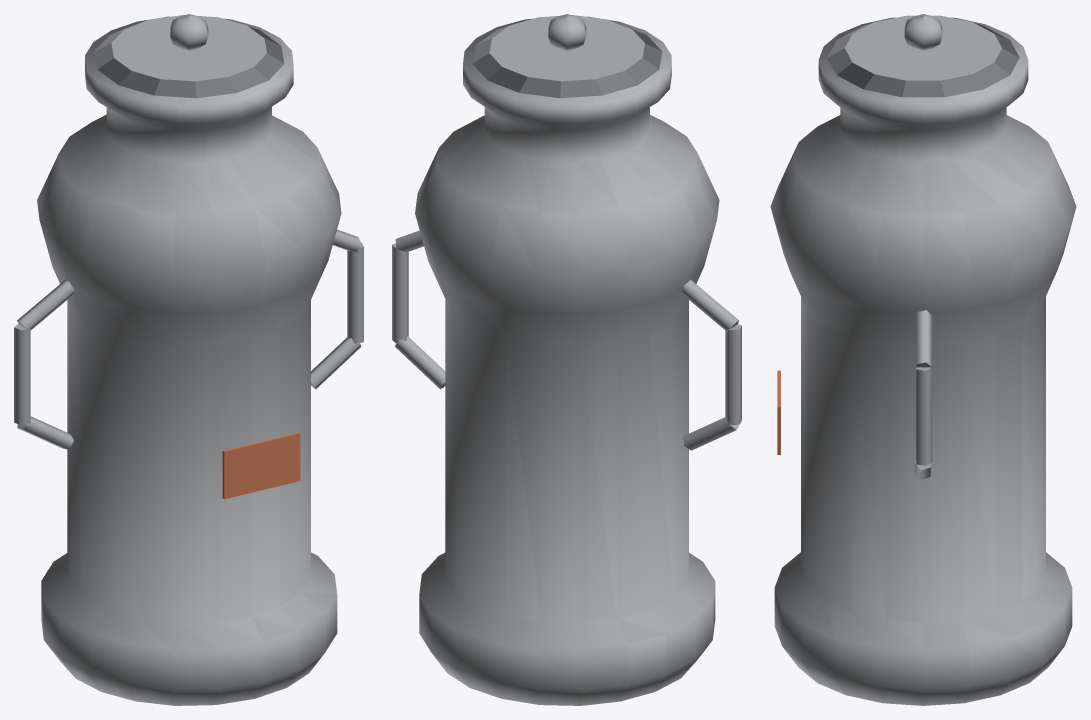
File: milk_churn_a.glb
3 renders of one model, left to right at view 1: azimuth 30°, elevation 25°; view 2: azimuth 150°, elevation 25°; view 3: azimuth 270°, elevation 25°, orthographic.
Parts seen in each view (by area): view 1: body; view 2: body; view 3: body.
Part boxes in pixels (<box>): body: <box>14,14,363,705</box>; body: <box>392,14,741,705</box>; body: <box>770,14,1076,705</box>.
Size of what is drawn, in the model's own units: 0.459 by 0.8 by 0.35.
